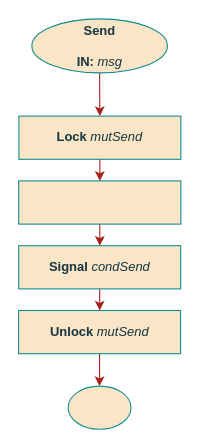
The diagram is 201 pixels wide and 448 high, and some of its shapes have lost their labels. The box of each missing label's shape, as (x1, y1, x2, y2) in pixels:
End: (67, 385, 131, 429)
Push msg to queued_msgs: (18, 180, 181, 224)
